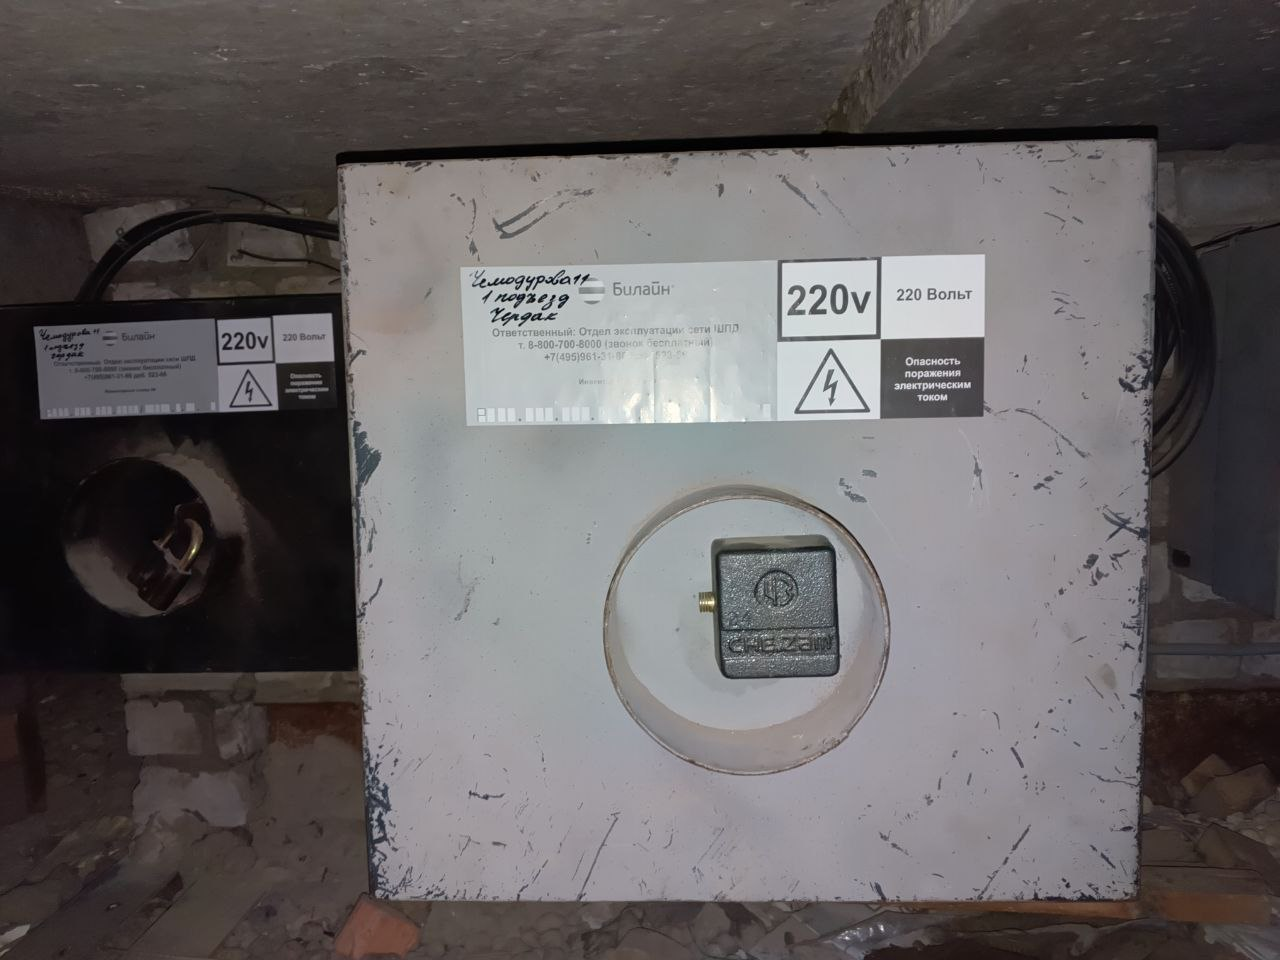shta-3: (5, 283, 369, 679)
shta-9: (328, 127, 1171, 916)
